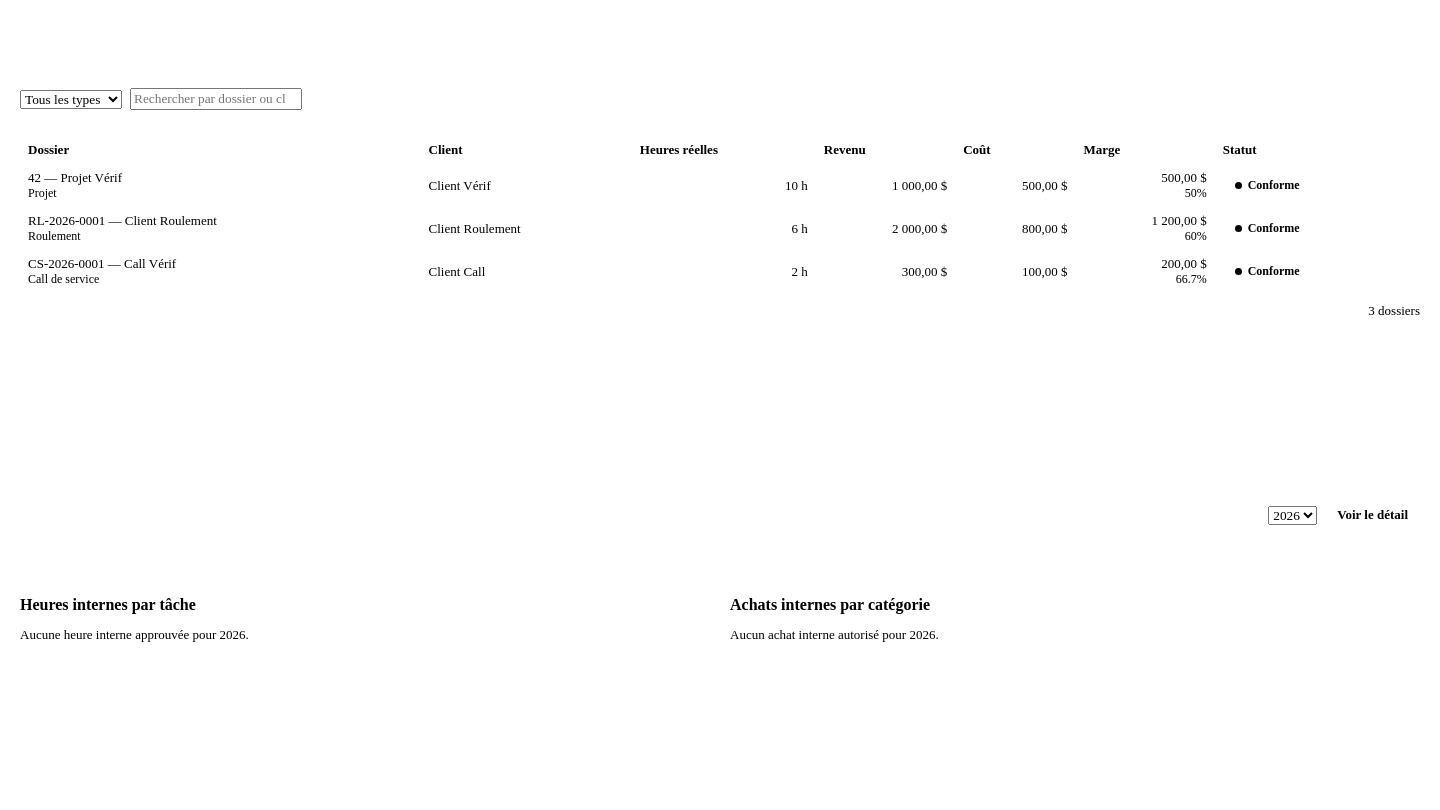
ReportsPage — comparatif de rentabilité, lignes cliquables › clic sur une ligne Roulement ouvre son Post-mortem
Click the text "Client Roulement". click: click(76, 220)
box: x1=20 y1=207 x2=1420 y2=250
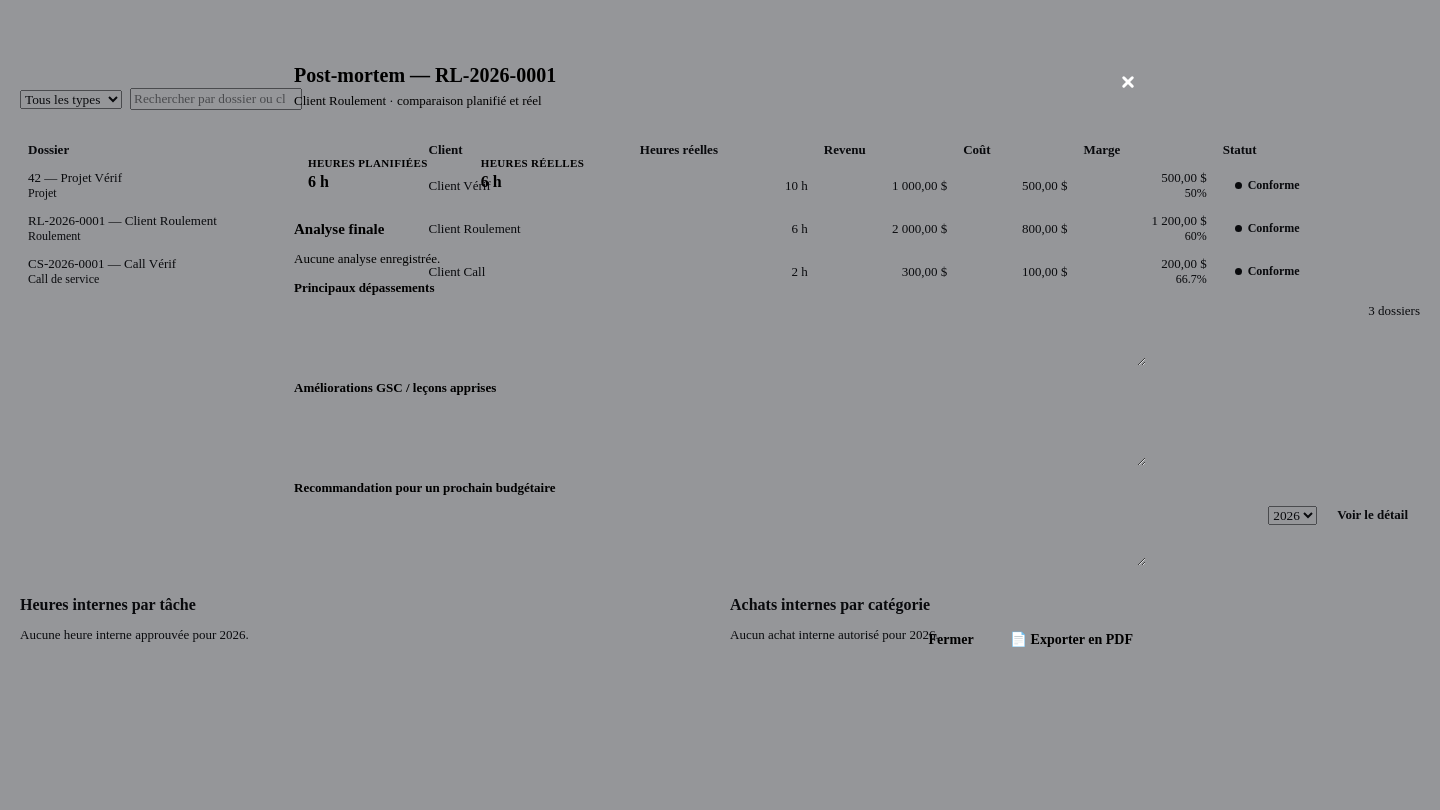
Check: the heading "Post-mortem — RL-2026-0001" is shown, box x1=294 y1=64 x2=556 y2=87
